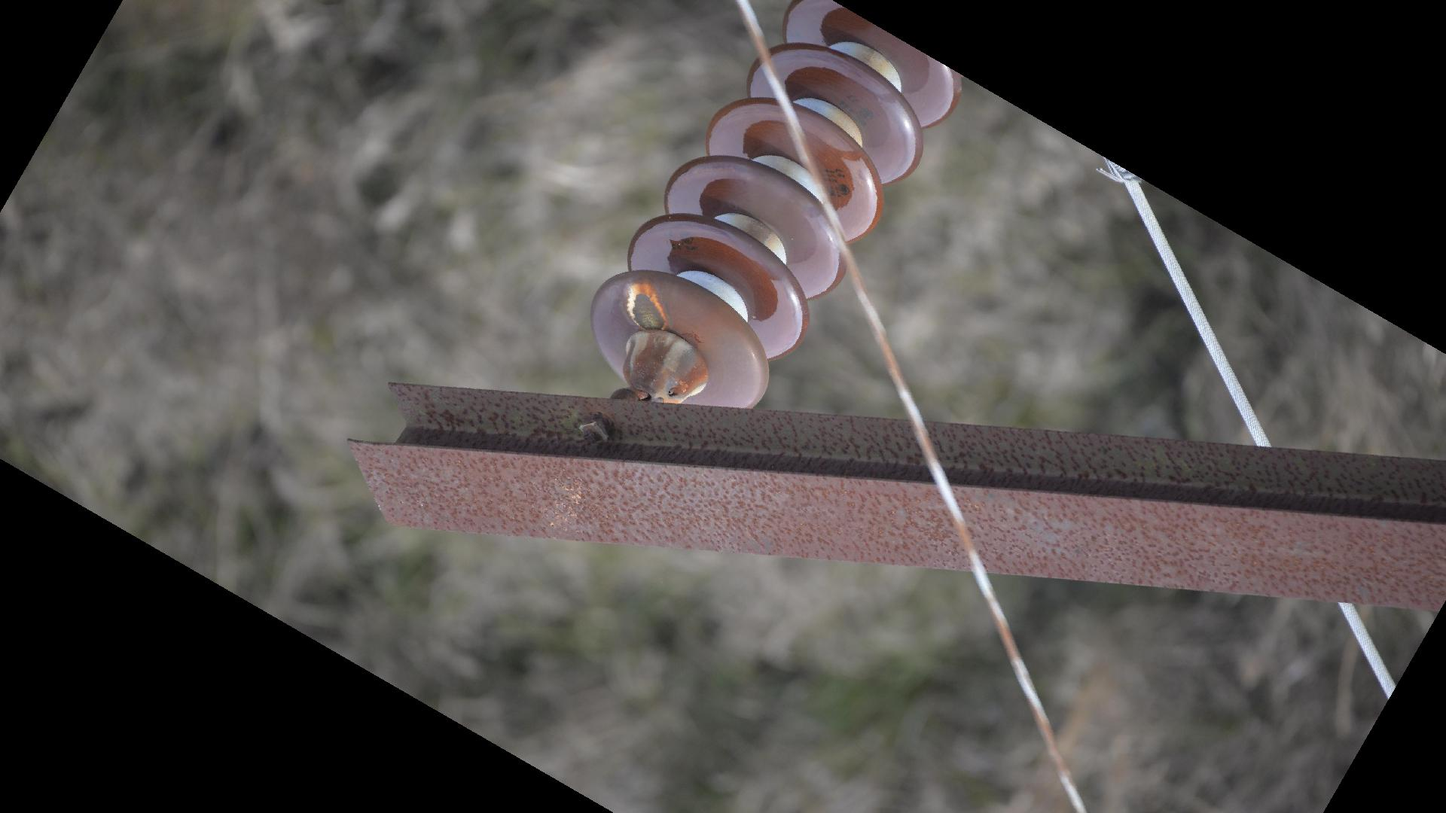insulator: (581, 1, 967, 418)
insulator_flashover: (622, 279, 673, 333)
